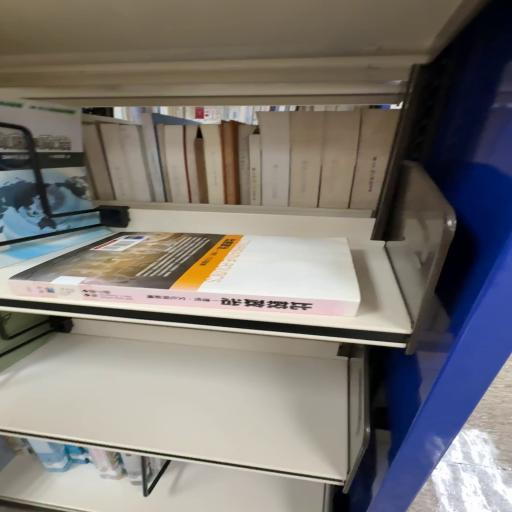flat: (8, 232, 361, 318)
